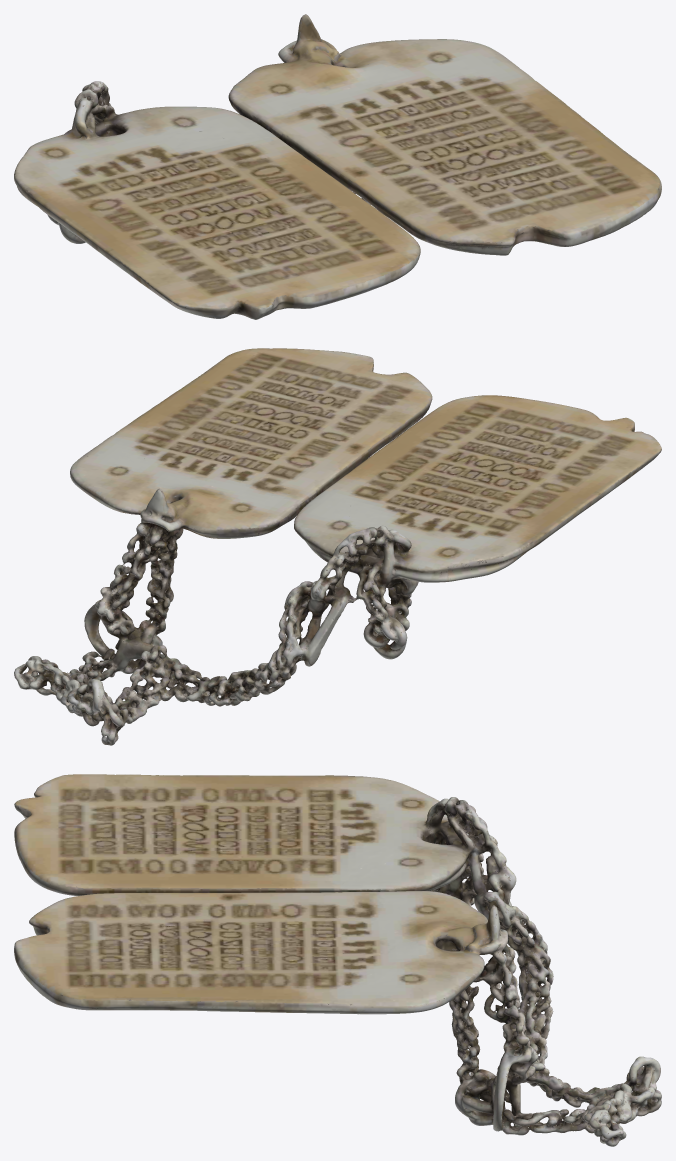
Rendered from Dog Tags.glb.
The picture shows the model from 3 angles, top to bottom: view 1: azimuth 30°, elevation 25°; view 2: azimuth 150°, elevation 25°; view 3: azimuth 270°, elevation 25°; orthographic projection. The views are drawn at different scales.
Bounding box in the file's own units: 1.68 × 0.7528 × 2.
1 material, 1 textured.
